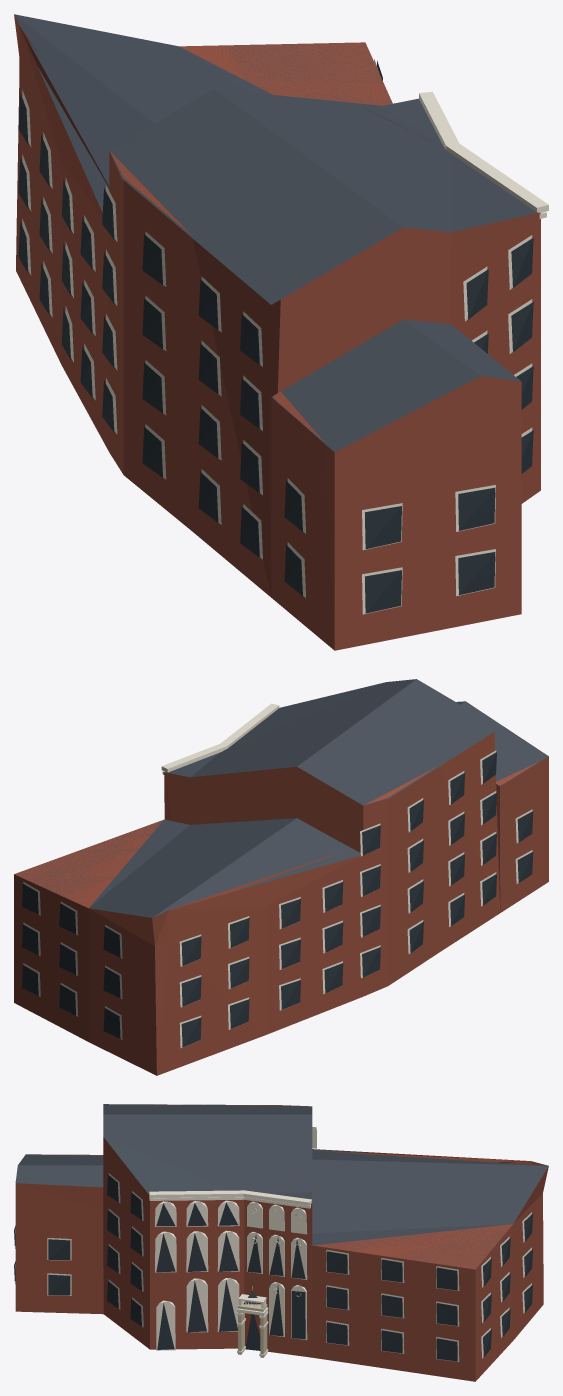
The model's file is begijnhofkapel.lod1.glb.
3 renders of one model, top to bottom at view 1: azimuth 30°, elevation 25°; view 2: azimuth 150°, elevation 25°; view 3: azimuth 270°, elevation 25°, orthographic. The views are drawn at different scales.
Visible parts, largest first — view 1: begijnhofkapel; view 2: begijnhofkapel; view 3: begijnhofkapel.
Boxes of the visible parts, bbox=[...] form: begijnhofkapel: bbox=[14, 14, 548, 650]; begijnhofkapel: bbox=[14, 679, 548, 1075]; begijnhofkapel: bbox=[14, 1104, 548, 1381].
Bounding box in the file's own units: 21.63 × 15.79 × 41.04.
